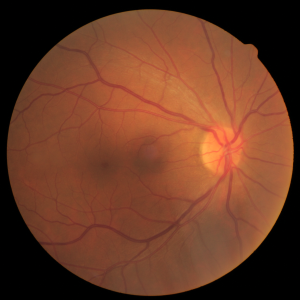retina_disease: (76, 98, 268, 218)
